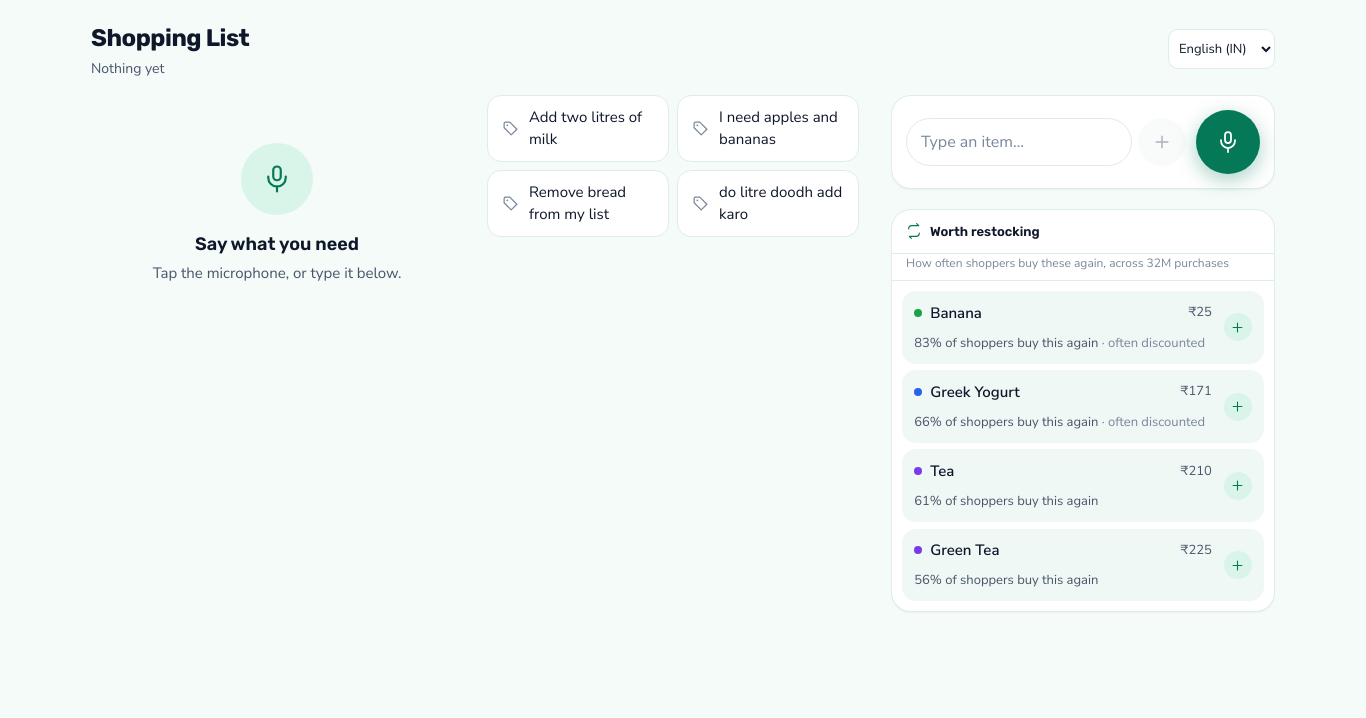
Test: voice search › shows results with real prices for a spoken query
The width and height of the screenshot is (1366, 718).
Click the button named "Start listening": (1228, 142) [1196,110,1260,174]
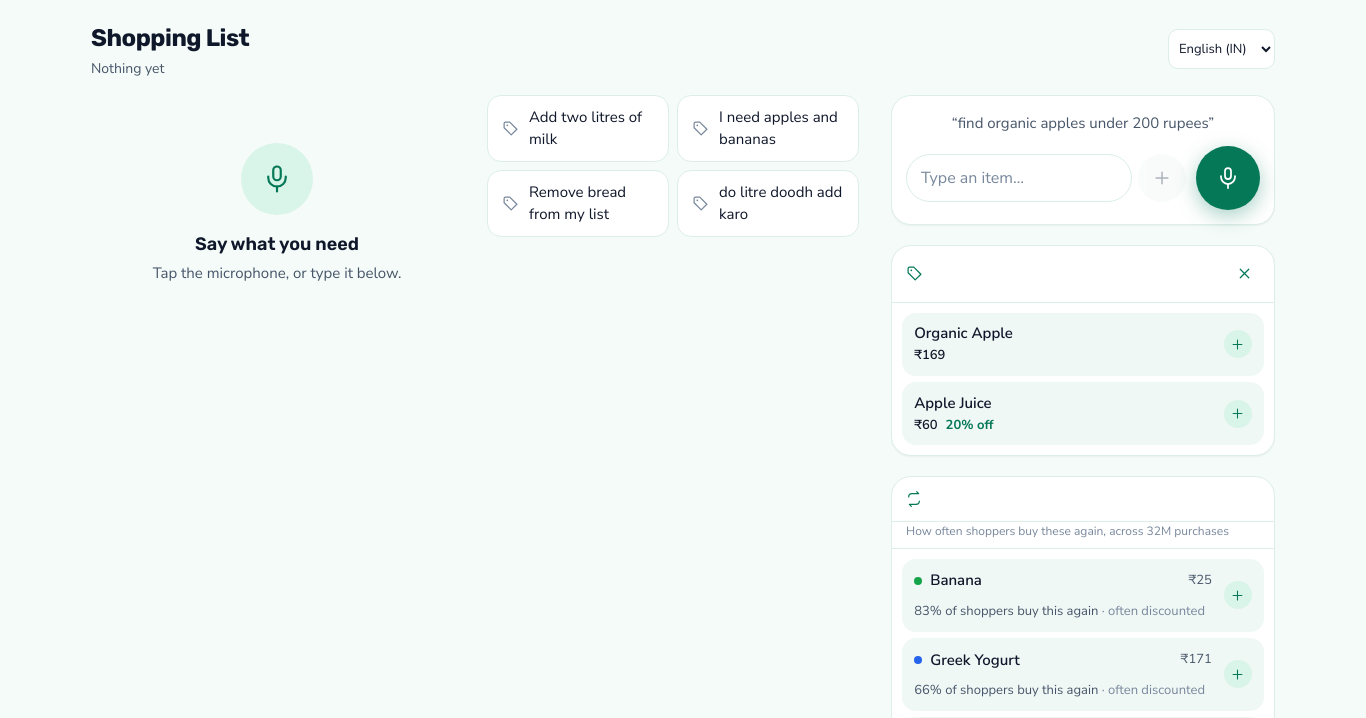
Now the text "Organic Apple" is shown, box [914,323,1013,343]
Now the text "₹169" is shown, box [914,346,945,366]
Now the text "20% off" is shown, box [946,416,994,436]
